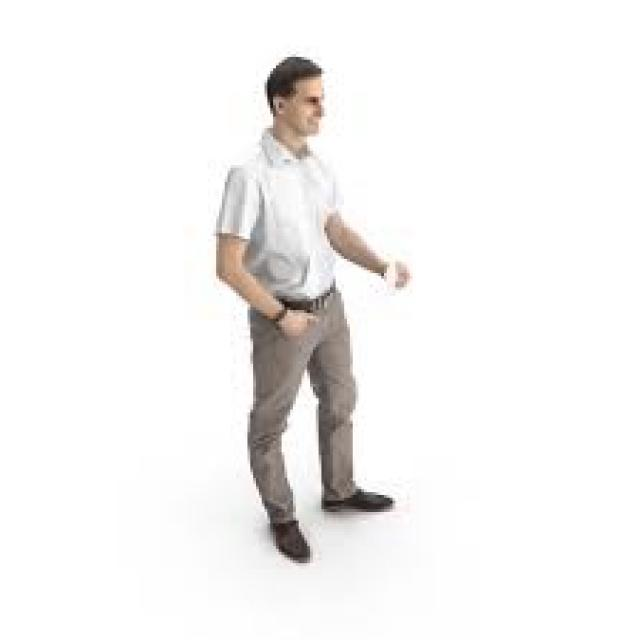adult: (194, 32, 432, 580)
